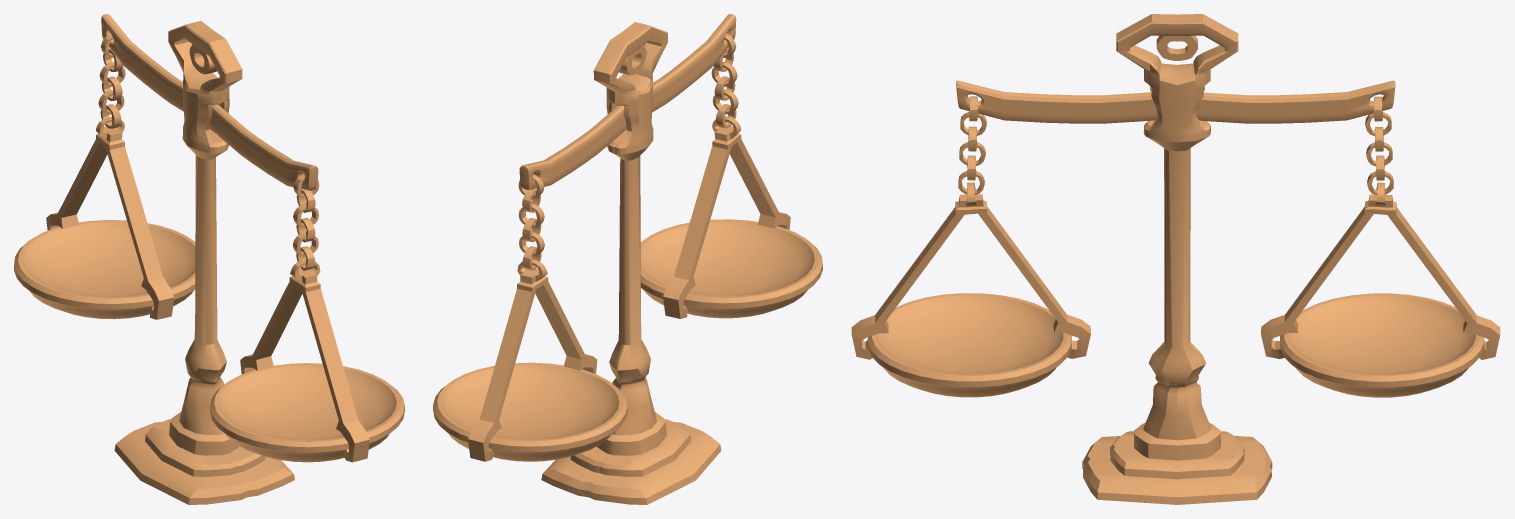
File: scaleV2.fbx
The picture shows the model from 3 angles, left to right: view 1: azimuth 30°, elevation 25°; view 2: azimuth 150°, elevation 25°; view 3: azimuth 270°, elevation 25°; orthographic projection. The views are drawn at different scales.
Visible parts, largest first — view 1: scale 01, scale 03_R, scale 03_L, scale 02; view 2: scale 01, scale 03_L, scale 03_R, scale 02; view 3: scale 01, scale 03_R, scale 03_L, scale 02.
Boxes of the visible parts, left/top/right/bottom form: scale 01: left=114, top=21, right=294, bottom=504; scale 03_R: left=210, top=174, right=404, bottom=462; scale 03_L: left=14, top=34, right=195, bottom=319; scale 02: left=101, top=14, right=318, bottom=190; scale 01: left=541, top=22, right=721, bottom=504; scale 03_L: left=433, top=174, right=627, bottom=461; scale 03_R: left=640, top=34, right=822, bottom=318; scale 02: left=519, top=14, right=736, bottom=190; scale 01: left=1082, top=14, right=1272, bottom=504; scale 03_R: left=851, top=96, right=1090, bottom=397; scale 03_L: left=1261, top=96, right=1500, bottom=397; scale 02: left=956, top=80, right=1395, bottom=123.
Bounding box in the file's own units: 0.0708 × 0.1749 × 0.2248.
